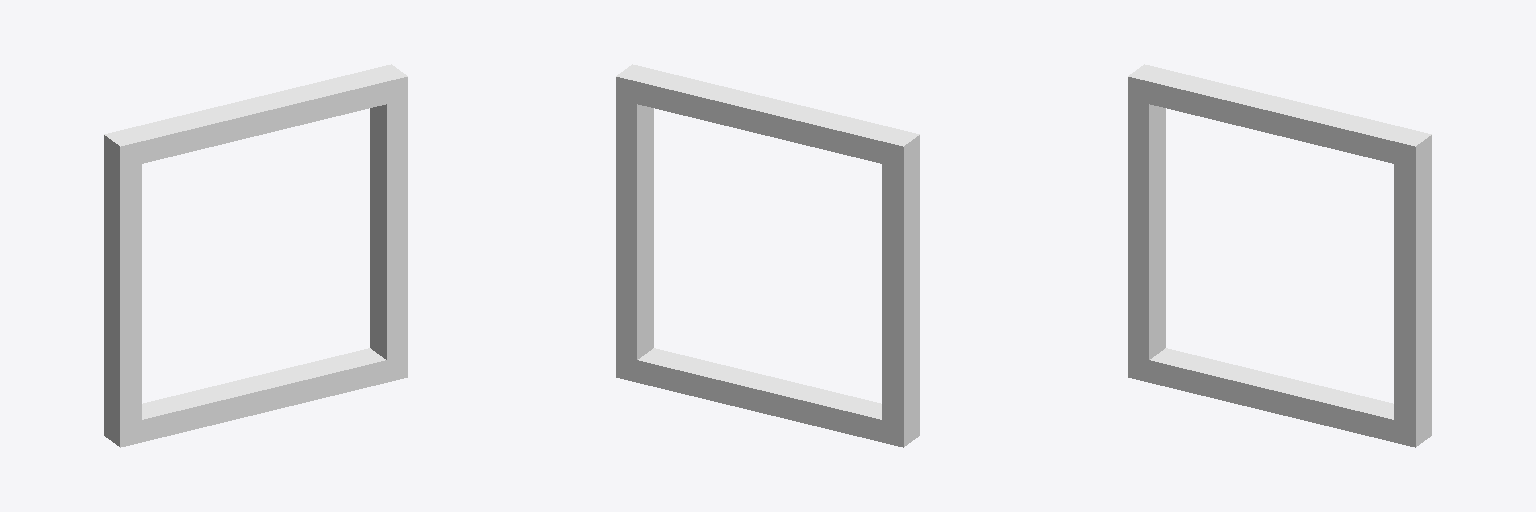
Rendered from RedOutline-0-Big.obj.
The picture shows the model from 3 angles: view 1: azimuth 30°, elevation 25°; view 2: azimuth 150°, elevation 25°; view 3: azimuth 330°, elevation 25°; orthographic projection.
Parts seen in each view (by area): view 1: Big; view 2: Big; view 3: Big.
Part boxes in pixels (x1,y1,x2,y2): Big: (104,64,407,447); Big: (616,64,919,447); Big: (1128,64,1431,447).
Size of the model in its own units: 4 by 4 by 0.4.